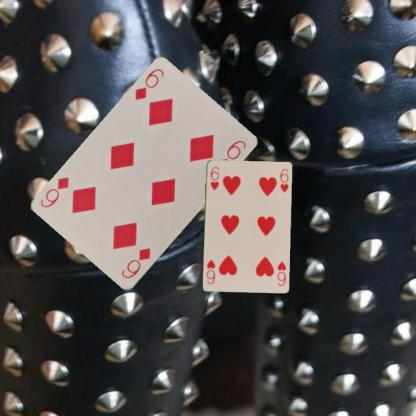6d: (119, 245, 152, 281), (132, 66, 165, 102)
6h: (275, 259, 287, 287), (208, 164, 220, 191)
